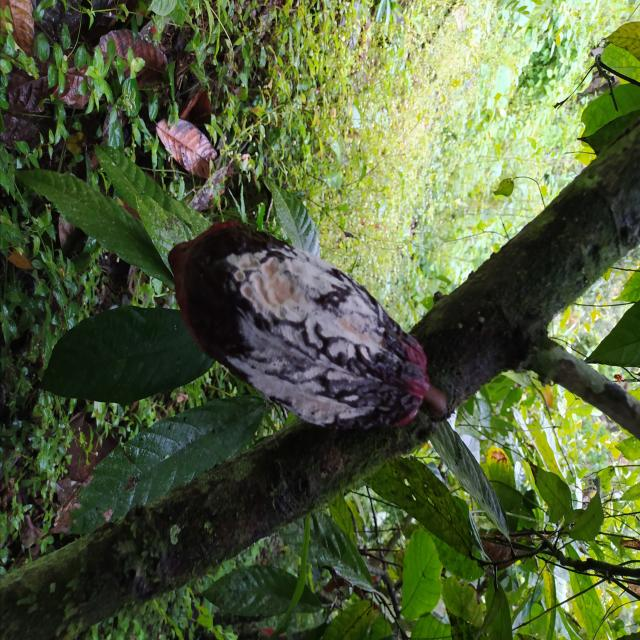Monilia: (166, 217, 429, 432)
